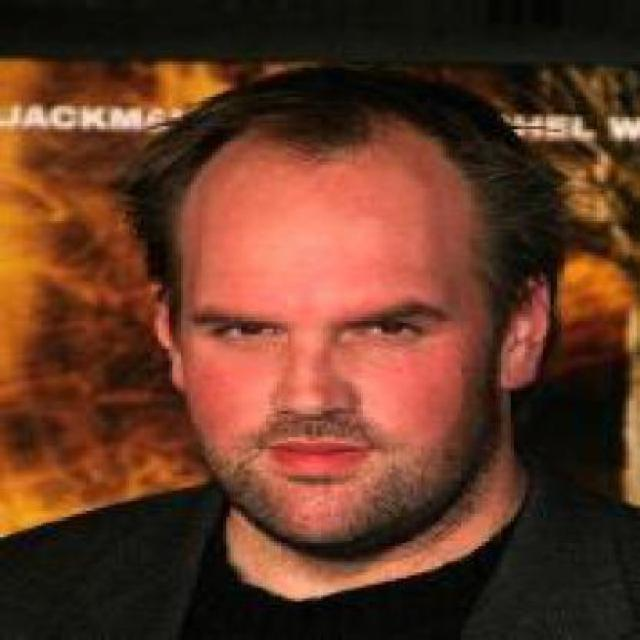closed-mouth: (270, 437, 368, 472)
